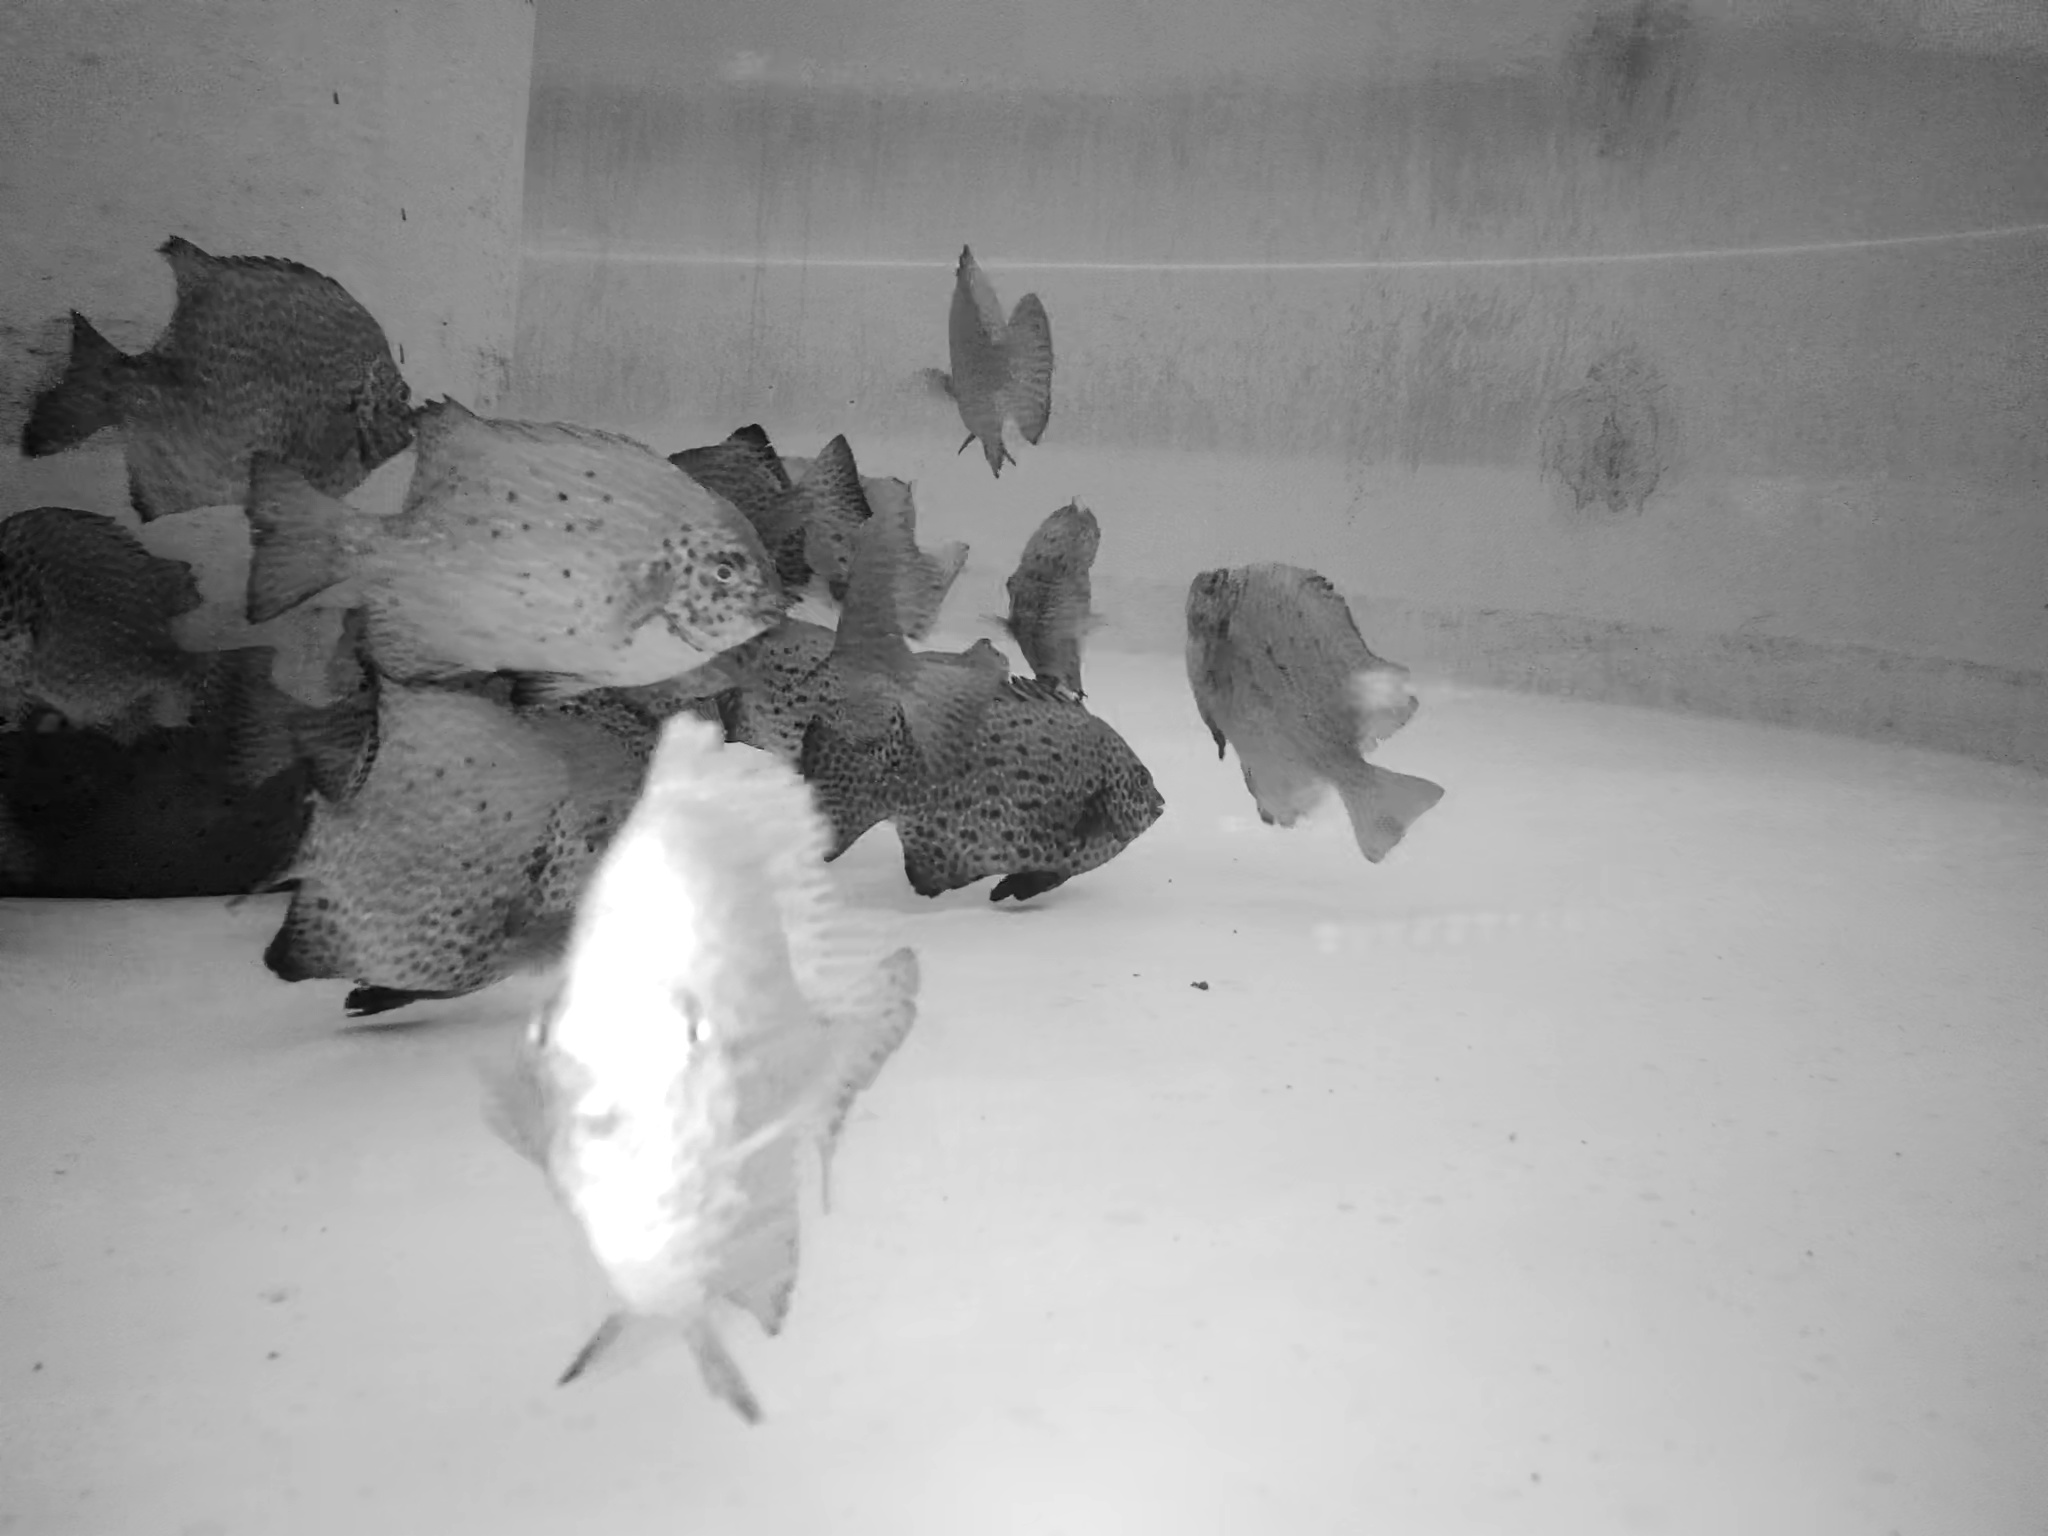fish: (461, 710, 921, 1431), (245, 395, 792, 681), (26, 232, 426, 544), (266, 663, 566, 1016), (785, 674, 1171, 907), (1184, 552, 1445, 874), (18, 503, 216, 744), (705, 624, 968, 766), (655, 403, 855, 587), (798, 449, 959, 657), (181, 658, 384, 815), (927, 242, 1056, 466), (1008, 490, 1093, 707)
